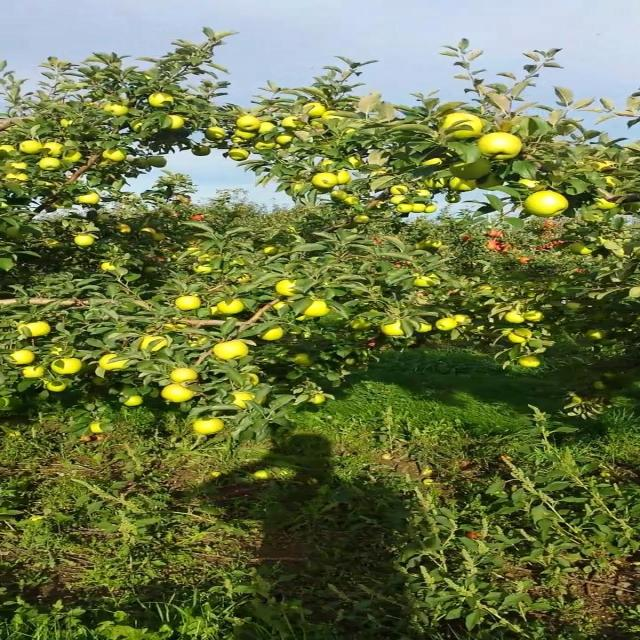apple: (525, 192, 569, 217), (440, 116, 484, 140), (483, 136, 524, 161), (454, 160, 492, 180), (212, 344, 249, 360), (198, 420, 228, 436), (141, 336, 171, 352), (163, 388, 194, 403), (170, 368, 199, 384), (99, 356, 128, 372), (447, 176, 476, 192), (476, 176, 505, 191), (56, 360, 84, 375), (6, 352, 36, 365), (20, 324, 50, 337), (177, 296, 201, 312), (276, 280, 299, 296), (234, 392, 256, 408), (148, 96, 176, 108), (220, 300, 244, 314), (518, 180, 546, 191), (241, 116, 261, 131), (312, 176, 336, 188), (305, 304, 329, 316), (305, 104, 327, 117), (20, 144, 43, 156), (205, 128, 228, 140), (148, 156, 171, 168), (262, 328, 284, 340), (504, 312, 526, 324), (106, 104, 128, 116), (42, 144, 64, 156), (42, 160, 64, 172), (419, 276, 441, 288), (383, 324, 405, 336), (284, 116, 304, 129), (596, 200, 619, 211), (390, 184, 411, 196), (276, 132, 295, 145), (63, 152, 85, 163), (255, 140, 277, 151), (604, 176, 624, 188), (49, 380, 68, 392), (333, 172, 352, 184), (191, 336, 210, 348), (28, 368, 48, 379), (6, 172, 28, 182), (426, 180, 448, 190), (419, 240, 441, 250), (525, 312, 544, 323), (170, 324, 196, 332), (404, 204, 427, 213), (77, 236, 94, 248), (575, 244, 592, 256), (6, 228, 23, 240), (106, 152, 128, 161), (170, 116, 185, 129), (348, 156, 364, 168), (77, 196, 100, 204), (127, 396, 142, 408), (440, 320, 455, 332), (518, 360, 540, 368), (191, 148, 213, 156), (319, 112, 338, 121), (262, 124, 277, 135), (291, 184, 306, 195), (212, 308, 228, 318), (6, 164, 28, 171), (596, 164, 615, 172), (589, 312, 608, 320), (355, 320, 370, 330), (298, 356, 313, 366), (312, 120, 327, 130), (618, 248, 633, 258), (426, 160, 446, 167), (276, 136, 293, 144), (589, 332, 606, 340), (134, 160, 151, 168), (198, 256, 215, 264), (234, 152, 249, 161), (426, 240, 441, 249), (397, 204, 412, 213), (426, 204, 441, 213), (99, 376, 112, 386), (262, 248, 277, 256), (419, 324, 434, 332), (333, 192, 348, 200), (312, 396, 327, 404), (390, 196, 405, 204), (454, 316, 469, 324), (134, 120, 144, 132), (355, 216, 370, 224), (447, 196, 462, 204), (412, 204, 427, 212), (568, 304, 585, 311), (120, 224, 133, 233), (198, 268, 213, 275), (419, 192, 434, 199), (319, 160, 334, 167), (511, 336, 524, 344), (243, 132, 256, 140), (376, 168, 389, 176), (348, 196, 361, 204), (92, 424, 103, 433), (518, 332, 533, 338), (6, 144, 16, 153), (248, 376, 258, 385), (141, 228, 156, 234), (241, 276, 252, 284), (106, 264, 116, 272), (63, 120, 73, 128), (632, 288, 639, 299), (284, 228, 299, 233), (191, 248, 201, 255), (276, 304, 288, 309), (596, 384, 606, 390), (419, 244, 427, 251), (483, 288, 492, 293), (49, 244, 59, 248), (156, 236, 165, 240), (298, 316, 306, 320)
